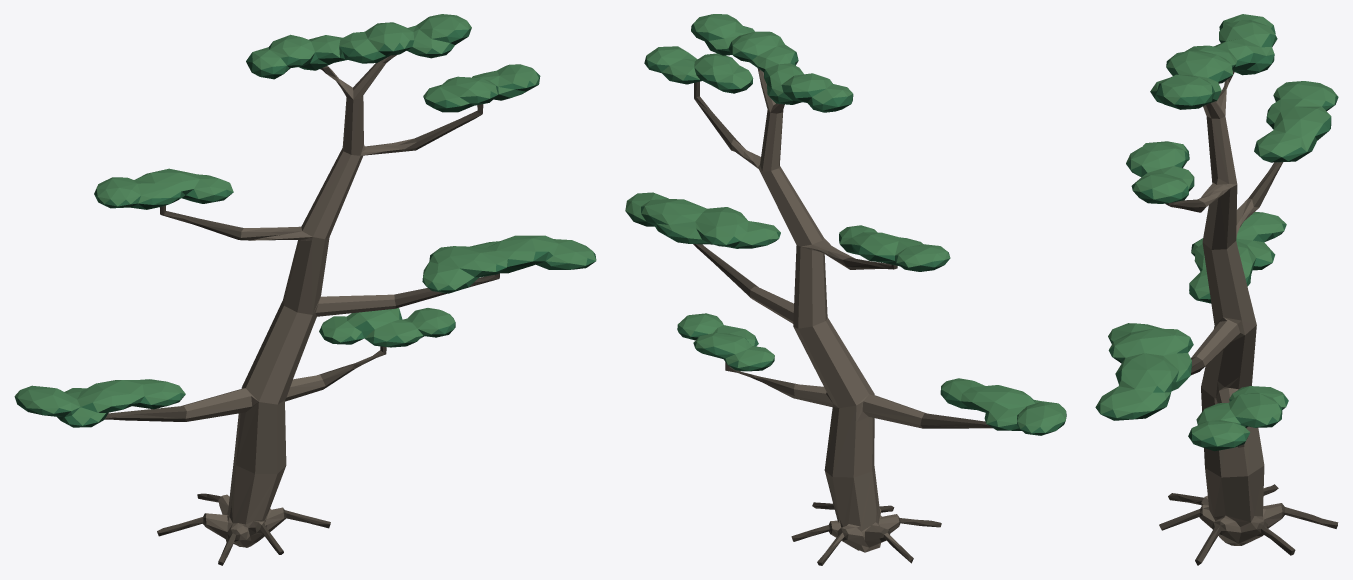
Rendered from ancient-pine-811-lod1.glb.
3 renders of one model, left to right at view 1: azimuth 30°, elevation 25°; view 2: azimuth 150°, elevation 25°; view 3: azimuth 270°, elevation 25°, orthographic. The views are drawn at different scales.
Parts seen in each view (by area): view 1: n8.005, n12.005, n11.005, n9.005, n10.005; view 2: n8.005, n12.005, n11.005, n9.005, n10.005; view 3: n12.005, n8.005, n11.005, n9.005, n10.005.
Boxes of the visible parts, x1,y1,x2,y2 form: n8.005: (180,57,416,547); n12.005: (14,14,596,425); n11.005: (15,28,596,425); n9.005: (104,54,499,565); n10.005: (18,37,595,427); n8.005: (731,70,926,552); n12.005: (625,14,1066,432); n11.005: (625,20,1066,433); n9.005: (693,68,992,565); n10.005: (634,38,1065,435); n12.005: (1096,14,1337,446); n8.005: (1189,71,1282,545); n11.005: (1095,21,1338,447); n9.005: (1159,71,1338,565); n10.005: (1101,40,1337,451).
Size of the model in its own units: 5.84 by 5.43 by 2.13.
